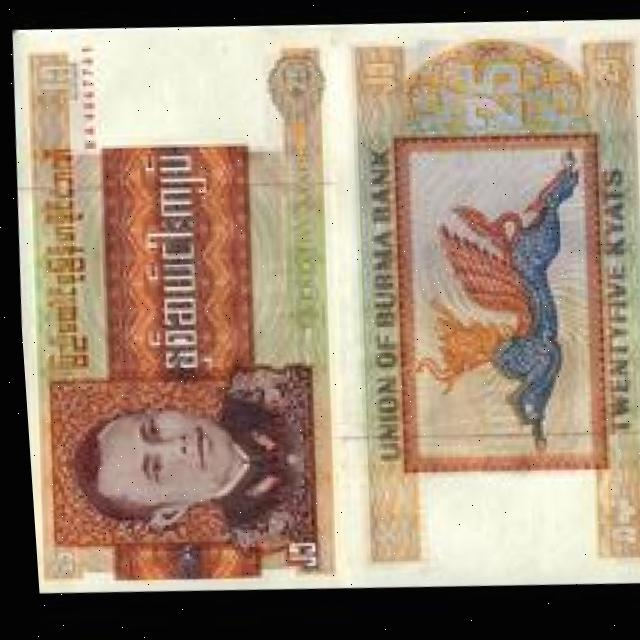banknote: (1, 13, 350, 598), (312, 31, 640, 600)
